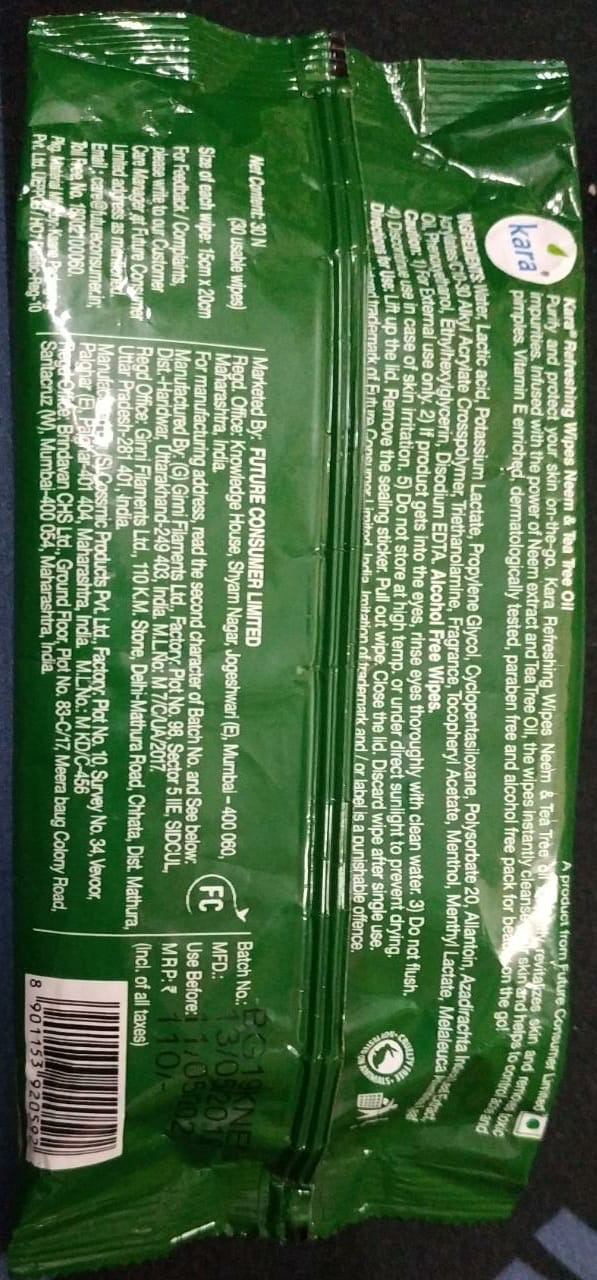barcode: (16, 964, 119, 1172)
